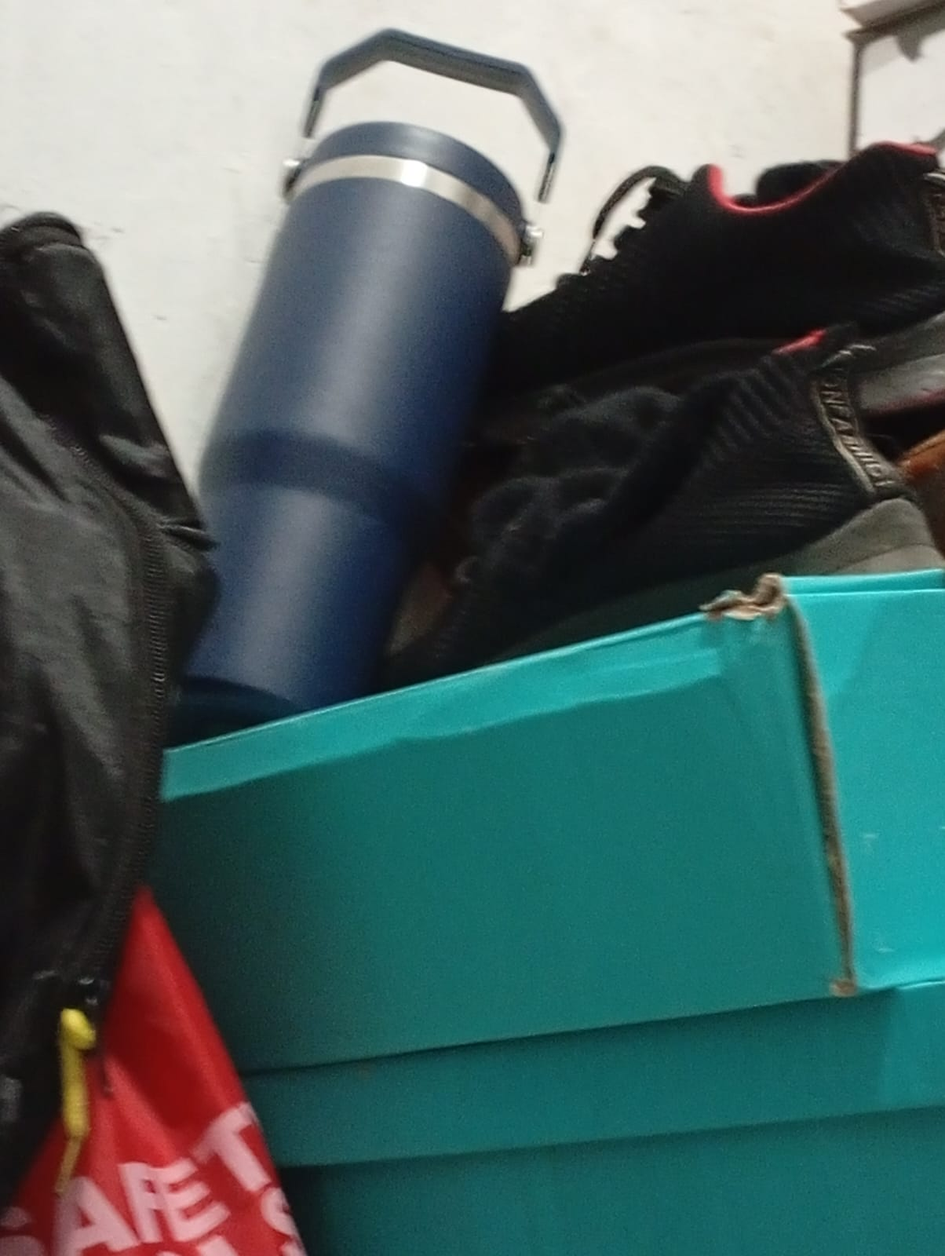Tupperware: (314, 0, 624, 734)
